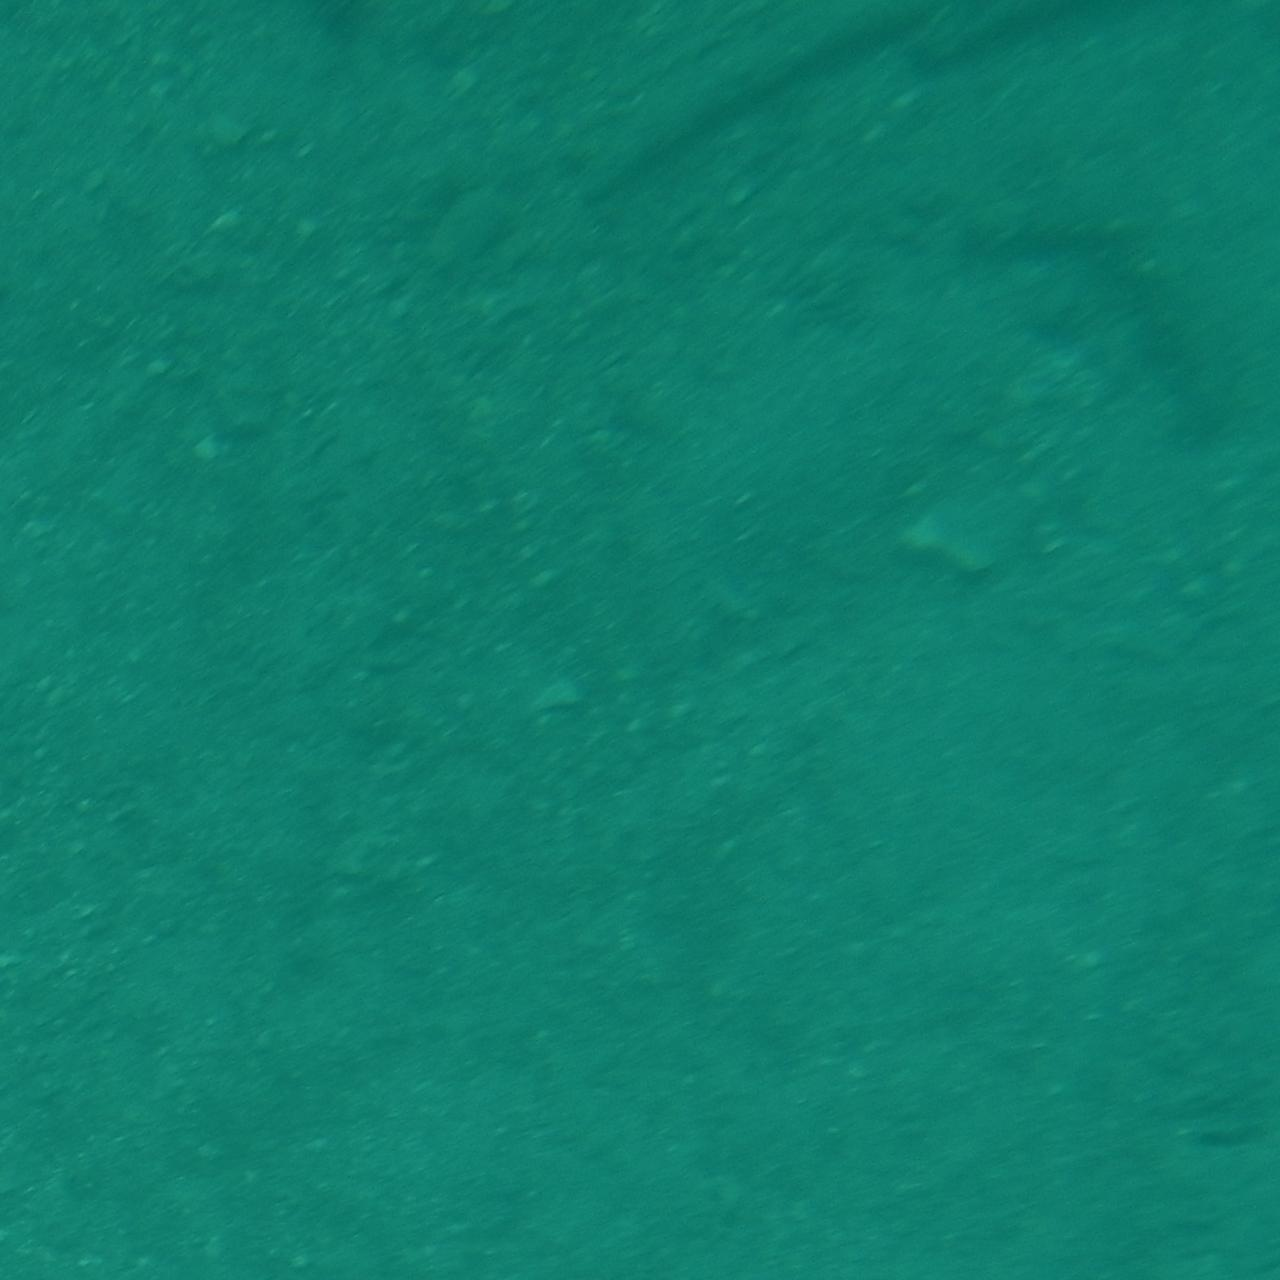Holothuria tubulosa: (566, 0, 944, 226)
